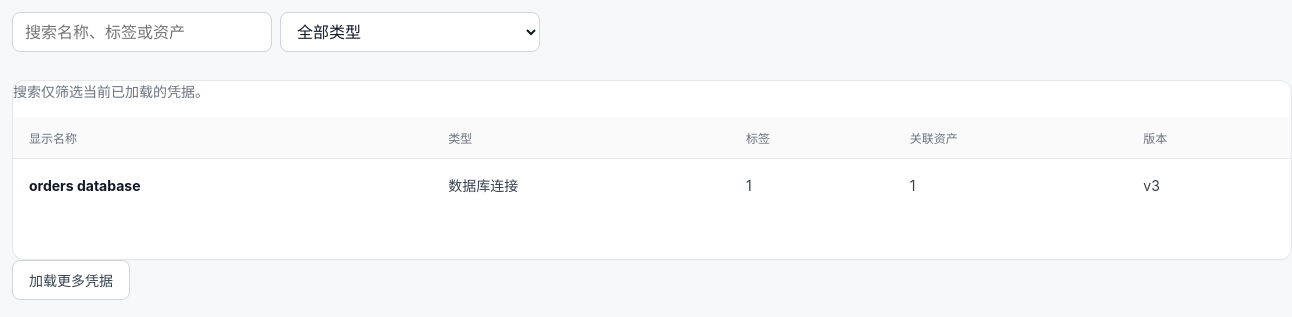
it: credential workflows › paginates credential metadata, deduplicates IDs, and filters loaded pages
Step 1. Click the button "加载更多凭据" → {"x": 71, "y": 280}, box 12,260 -> 130,300
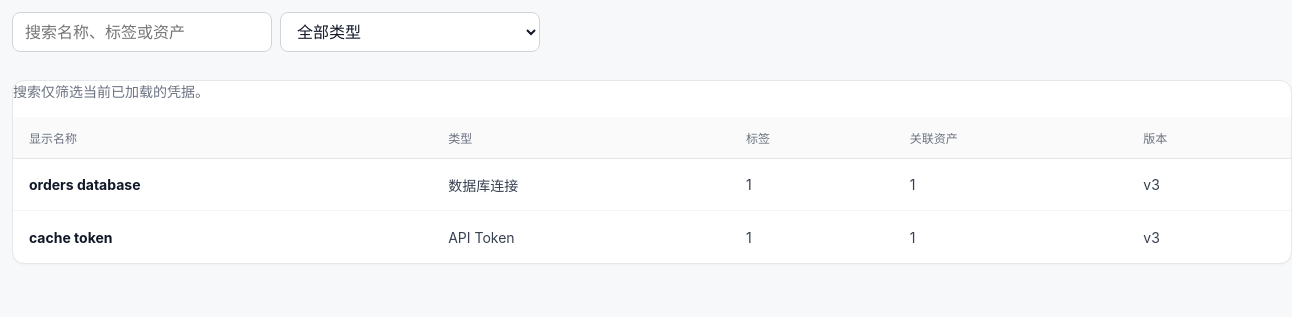
Expected: the button "cache token" is shown, 29,225 -> 113,250
Expected: the number of buttons "orders database" is 1, 29,172 -> 140,197
Step 2. Type "cache" into the search field named "搜索凭据" → {"x": 142, "y": 32}, box 12,12 -> 272,52
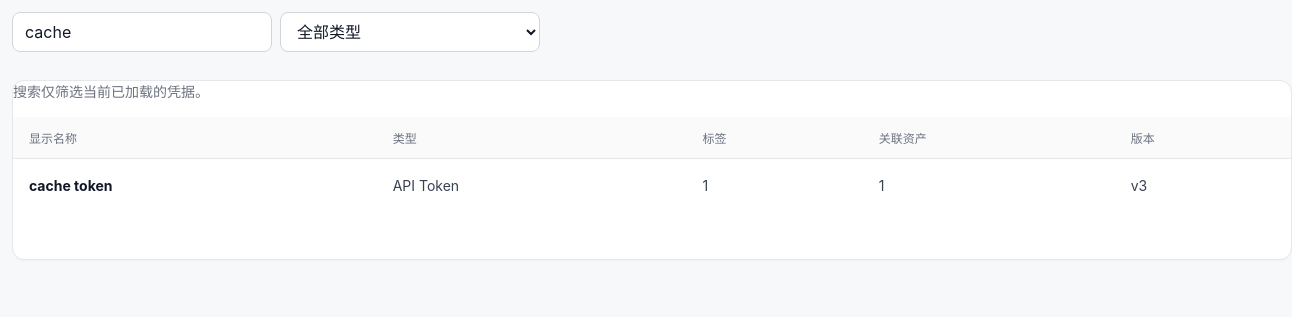
Expected: the button "cache token" is shown, 29,173 -> 113,198
Expected: the button "orders database" is gone
